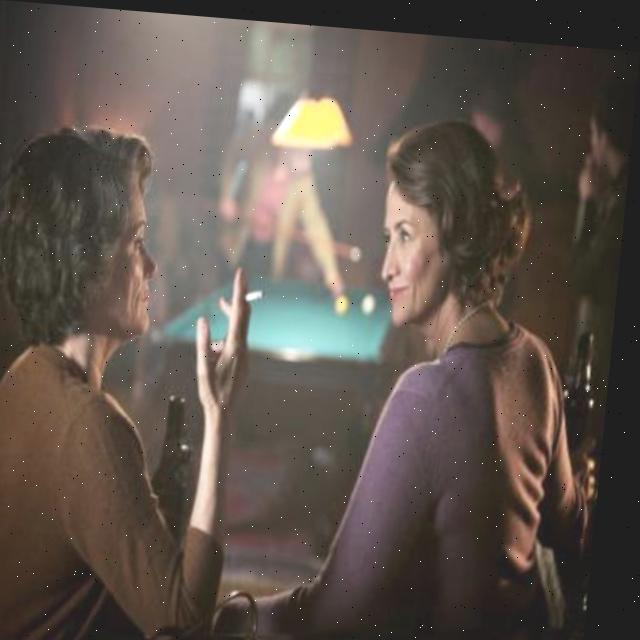cigarette: (246, 279, 271, 301)
